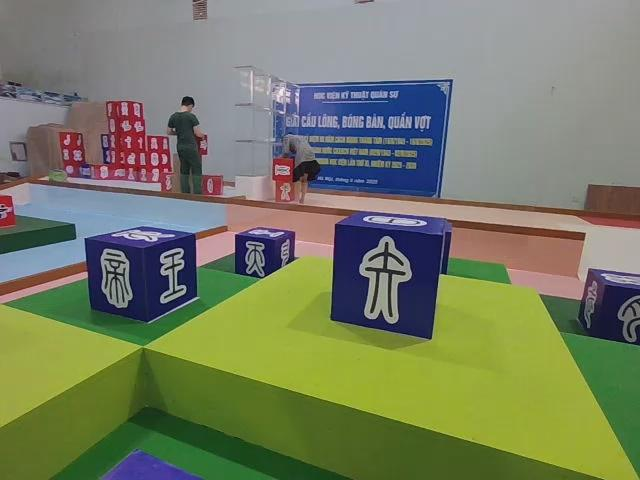R2 Fake Blue: (330, 212, 446, 343), (84, 227, 199, 326), (579, 271, 640, 352), (236, 228, 298, 280)
